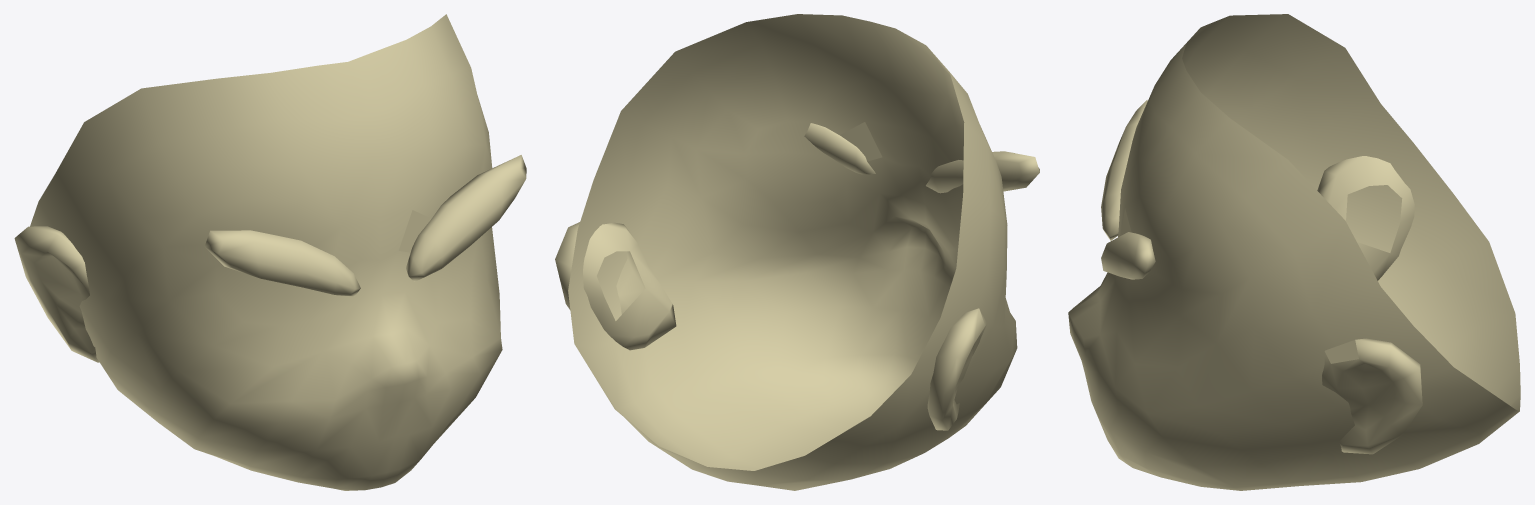
Rendered from Fbx_Base_Character.fbx.
3 renders of one model, left to right at view 1: azimuth 30°, elevation 25°; view 2: azimuth 150°, elevation 25°; view 3: azimuth 270°, elevation 25°, orthographic. The views are drawn at different scales.
Parts seen in each view (by area): view 1: Face; view 2: Face; view 3: Face.
Part boxes in pixels (x1=…): Face: x1=14, y1=14, x2=526, y2=490; Face: x1=555, y1=14, x2=1039, y2=490; Face: x1=1068, y1=14, x2=1520, y2=490.
Bounding box in the file's own units: 21.55 × 20.23 × 20.1.
